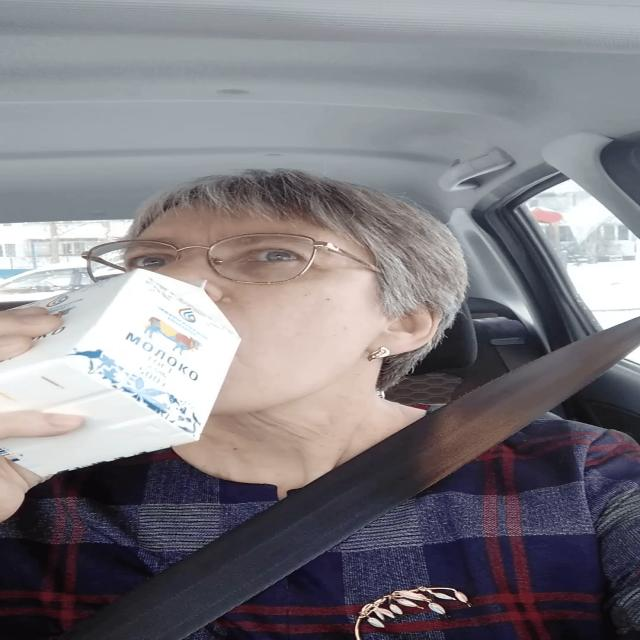3: (83, 328, 640, 640)
Seatbelt: (3, 270, 244, 485)
